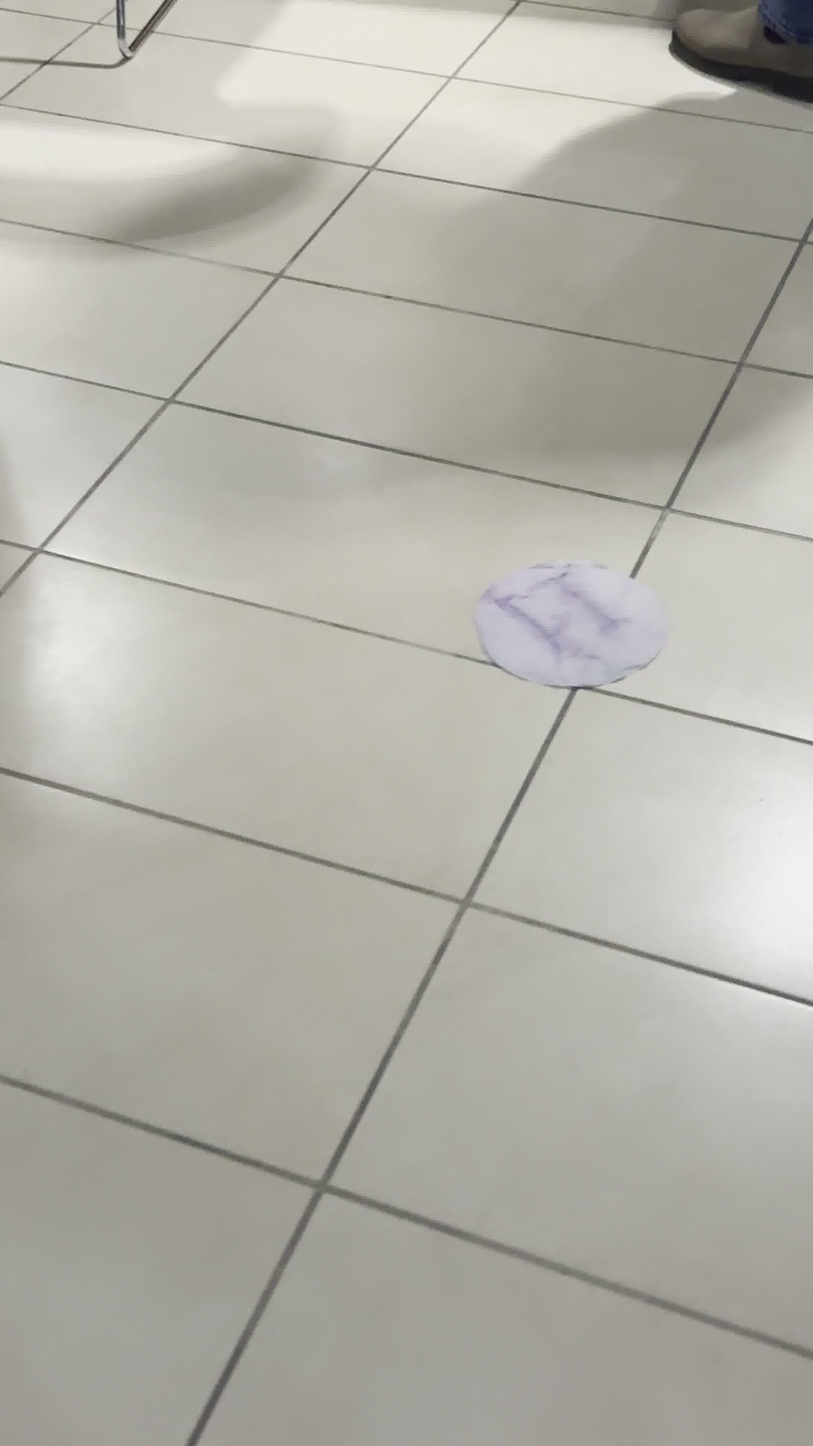Target: (470, 556, 664, 688)
